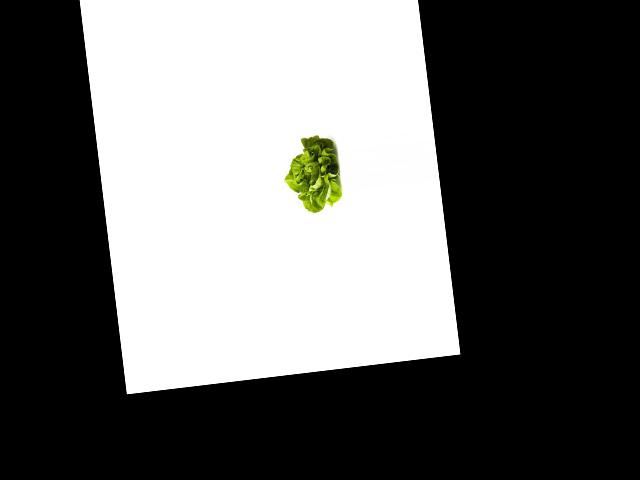lettuce: (280, 132, 345, 218)
